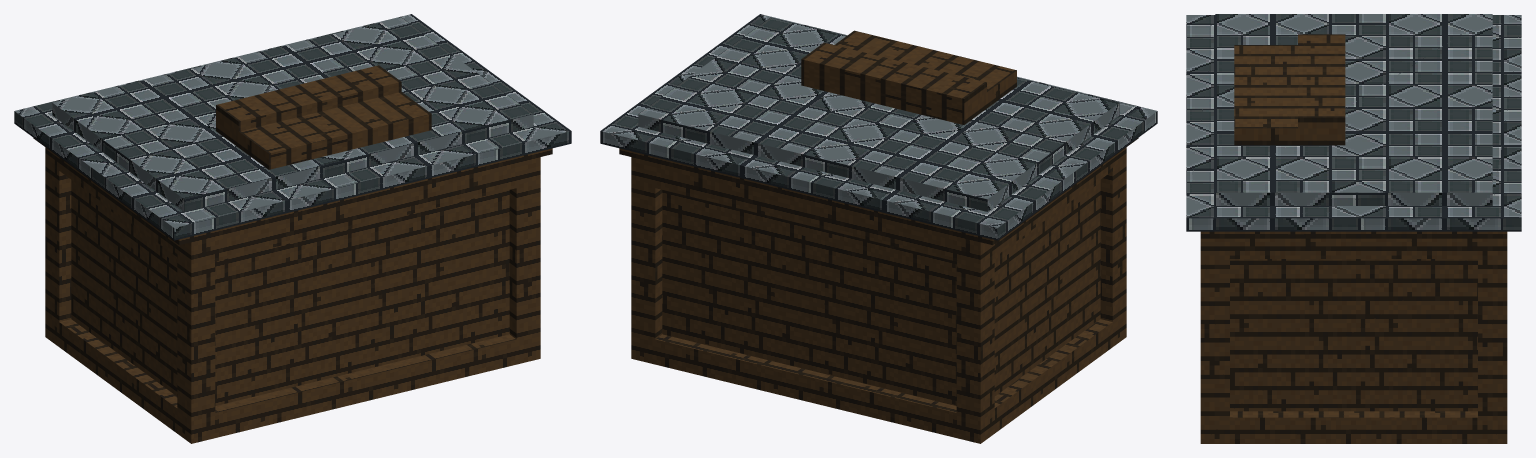
Rendered from altar_table.fbx.
The picture shows the model from 3 angles, left to right: view 1: azimuth 30°, elevation 25°; view 2: azimuth 150°, elevation 25°; view 3: azimuth 270°, elevation 25°; orthographic projection. The views are drawn at different scales.
Parts seen in each view (by area): view 1: stand-book; view 2: stand-book; view 3: stand-book.
Boxes of the visible parts, box(x1,y1,x2,y2) form: stand-book: box(14, 14, 571, 443); stand-book: box(600, 14, 1157, 443); stand-book: box(1186, 14, 1521, 443).
Size of the model in its own units: 368 by 235 by 257.
Materials: 4 (4 with a texture image).
